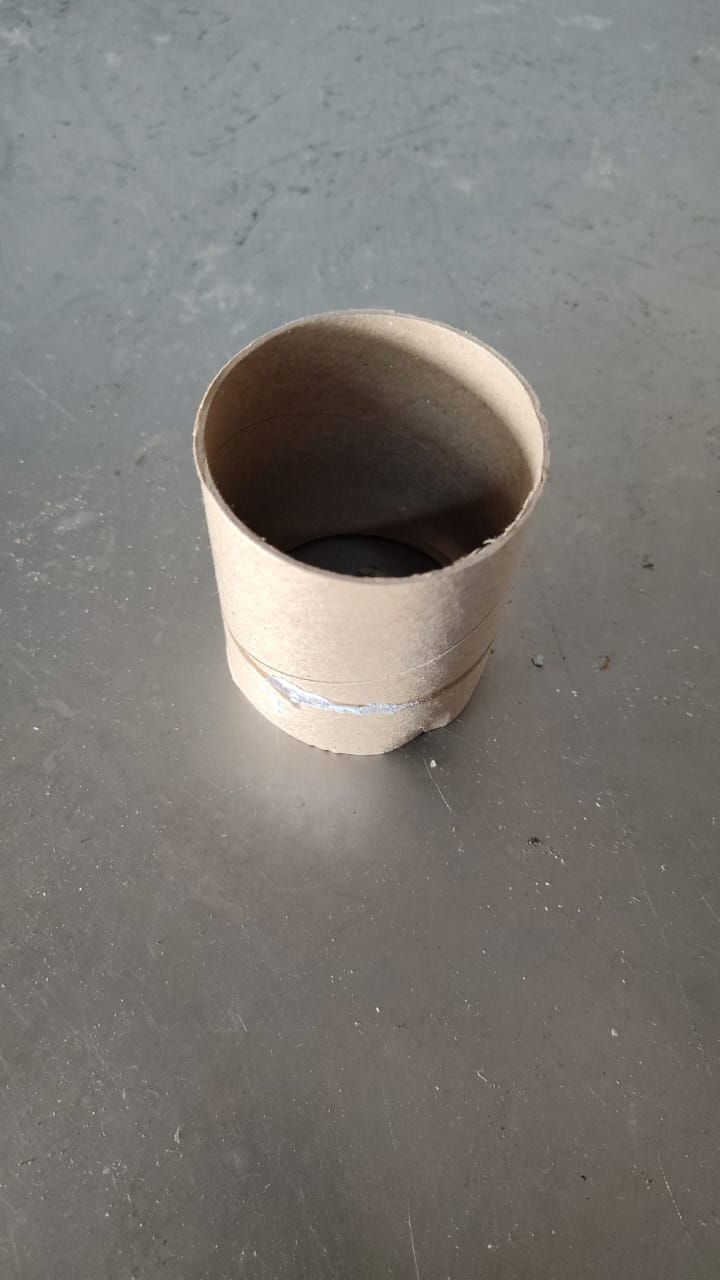Carton: (189, 307, 553, 757)
